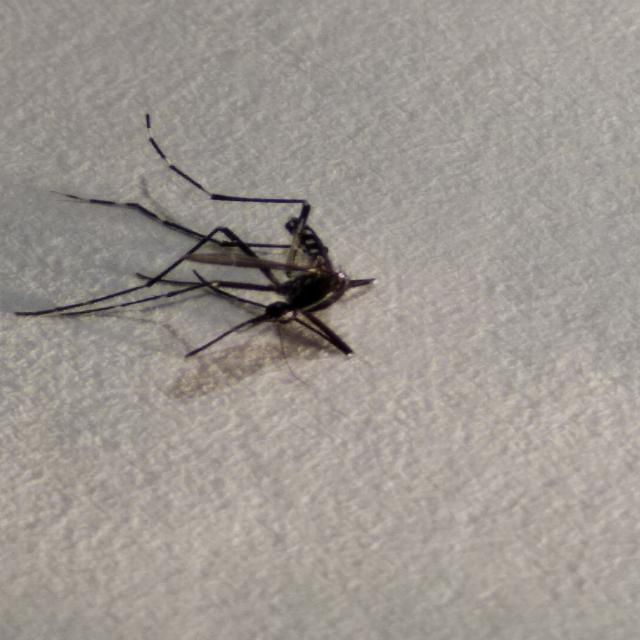albopictus: (15, 91, 404, 382)
